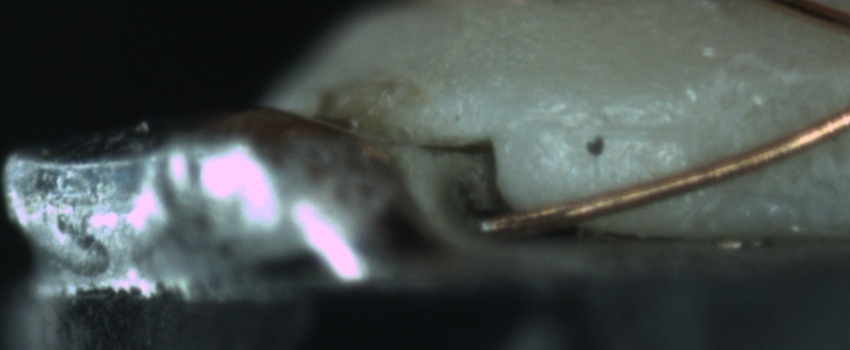DL: (544, 102, 679, 160)
